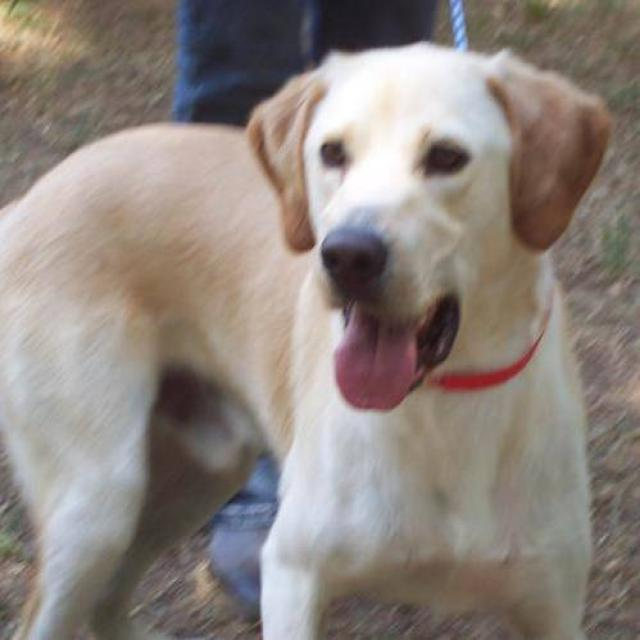adult_dog: (0, 42, 612, 640)
